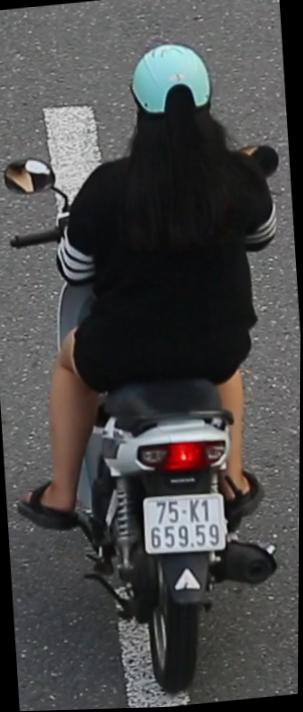LP: (139, 486, 231, 563)
helmet: (125, 35, 218, 127)
